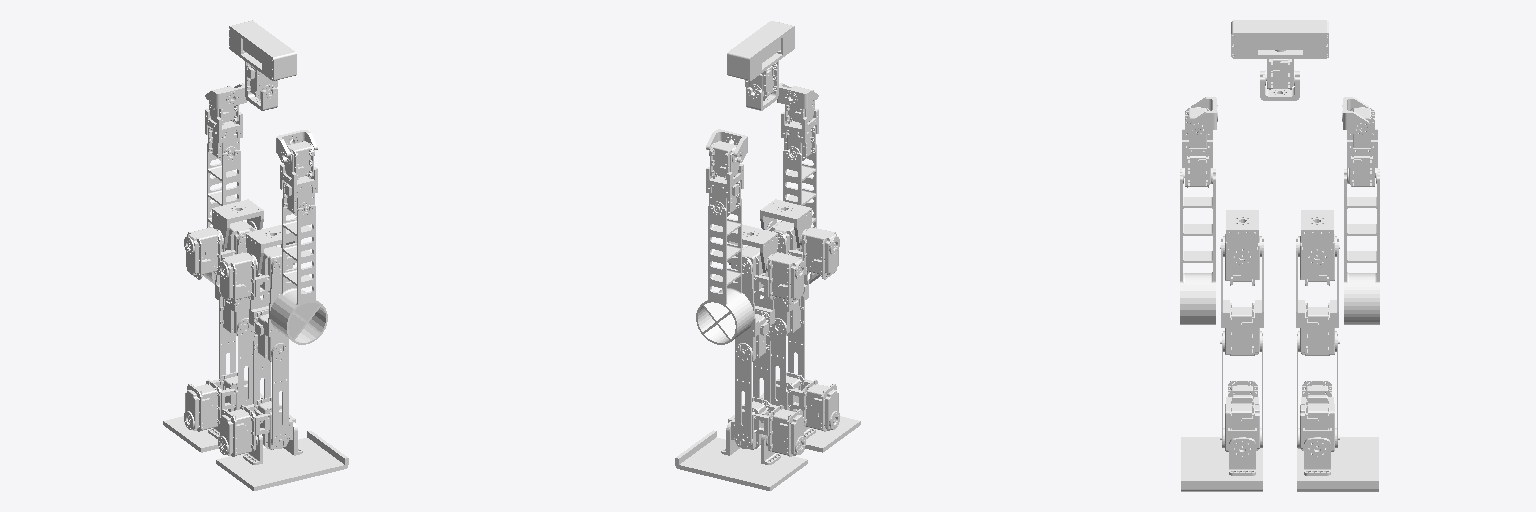
The robot description file, URDF, robot "kubot25_pkgs":
<?xml version="1.0" encoding="utf-8"?>
<robot name="kubot25_pkgs">
  <link name="base_link">
    <inertial>
      <origin xyz="0.0031365 3.8801E-05 0.00019581" rpy="0 0 0" />
      <mass value="1.90195439" />
      <inertia ixx="0.00827128" ixy="0.00000219	" ixz="-0.00051804" iyy="0.00667427" iyz="-0.00000232" izz="0.00507571" />
    </inertial>
    <visual>
      <origin xyz="0 0 0" rpy="0 0 0" />
      <geometry>
        <mesh filename="../meshes/base_link.STL" />
      </geometry>
      <material name=""><color rgba="1 1 1 1" /></material>
    </visual>
    <collision>
      <origin xyz="0 0 0" rpy="0 0 0" />
      <geometry>
        <mesh filename="../meshes/base_link_collision.STL" />
      </geometry>
    </collision>
  </link>
  <link name="Neck_yaw">
    <inertial>
      <origin xyz="1.2504E-14 2.5464E-13 0.031083" rpy="0 0 0" />
      <mass value="0.03844" />
      <inertia ixx="1.819E-05" ixy="0" ixz="0" iyy="5.34E-06" iyz="0" izz="1.717E-05" />
    </inertial>
    <visual>
      <origin xyz="0 0 0" rpy="0 0 0" />
      <geometry>
        <mesh filename="../meshes/Neck_yaw.STL" />
      </geometry>
      <material name=""><color rgba="1 1 1 1" /></material>
    </visual>
    <collision>
      <origin xyz="0 0 0" rpy="0 0 0" />
      <geometry>
        <mesh filename="../meshes/Neck_yaw_collision.STL" />
      </geometry>
    </collision>
  </link>
  <joint name="Neck_yaw_joint" type="revolute">
    <origin xyz="0.037762 5.0186E-05 0.063694" rpy="0 0 0" />
    <parent link="base_link" />
    <child link="Neck_yaw" />
    <axis xyz="0 0 1" />
    <limit lower="-3.1415" upper="3.1415" effort="100.0" velocity="10.0" />
  </joint>
  <link name="Head_pitch">
    <inertial>
      <origin xyz="0.0016148 -0.00027502 0.047365" rpy="0 0 0" />
      <mass value="0.30132044" />
      <inertia ixx="0.00048942" ixy="3.5E-07" ixz="0.00000560" iyy="0.00018664" iyz=" 0.00000064" izz="0.00035918" />
    </inertial>
    <visual>
      <origin xyz="0 0 0" rpy="0 0 0" />
      <geometry>
        <mesh filename="../meshes/Head_pitch.STL" />
      </geometry>
      <material name=""><color rgba="1 1 1 1" /></material>
    </visual>
    <collision>
      <origin xyz="0 0 0" rpy="0 0 0" />
      <geometry>
        <mesh filename="../meshes/Head_pitch_collision.STL" />
      </geometry>
    </collision>
  </link>
  <joint name="Head_pitch_joint" type="revolute">
    <origin xyz="0 0.000475 0.04825" rpy="0 0 0" />
    <parent link="Neck_yaw" />
    <child link="Head_pitch" />
    <axis xyz="0 -1 0" />
    <limit lower="-3.1415" upper="3.1415" effort="100.0" velocity="10.0" />
  </joint>
  <link name="L_Shoulder_pitch">
    <inertial>
      <origin xyz="9.0068E-10 0.031774 -0.0016022" rpy="0 0 0" />
      <mass value="0.00983000" />
      <inertia ixx="1.39E-06" ixy="0" ixz="0" iyy="4.39E-06" iyz="-1.6E-07" izz="4.52E-06" />
    </inertial>
    <visual>
      <origin xyz="0 0 0" rpy="0 0 0" />
      <geometry>
        <mesh filename="../meshes/L_Shoulder_pitch.STL" />
      </geometry>
      <material name=""><color rgba="1 1 1 1" /></material>
    </visual>
    <collision>
      <origin xyz="0 0 0" rpy="0 0 0" />
      <geometry>
        <mesh filename="../meshes/L_Shoulder_pitch_collision.STL" />
      </geometry>
    </collision>
  </link>
  <joint name="L_Shoulder_pitch_joint" type="revolute">
    <origin xyz="0.037561 0.06255 0.059244" rpy="0 0 0" />
    <parent link="base_link" />
    <child link="L_Shoulder_pitch" />
    <axis xyz="0 1 0" />
    <limit lower="-3.1415" upper="3.1415" effort="100.0" velocity="10.0" />
  </joint>
  <link name="L_Arm_roll">
    <inertial>
      <origin xyz="3.3313E-05 3.3313E-05 -0.0406" rpy="0 0 0" />
      <mass value="0.15508000" />
      <inertia ixx="0.00016511" ixy="0" ixz="0.00000042" iyy="0.00016511" iyz="-0.00000042" izz="0.00003071" />
    </inertial>
    <visual>
      <origin xyz="0 0 0" rpy="0 0 0" />
      <geometry>
        <mesh filename="../meshes/L_Arm_roll.STL" />
      </geometry>
      <material name=""><color rgba="1 1 1 1" /></material>
    </visual>
    <collision>
      <origin xyz="0 0 0" rpy="0 0 0" />
      <geometry>
        <mesh filename="../meshes/L_Arm_roll_collision.STL" />
      </geometry>
    </collision>
  </link>
  <joint name="L_Arm_roll_joint" type="revolute">
    <origin xyz="-0.000475 0.047406 -0.01045" rpy="0 0 0" />
    <parent link="L_Shoulder_pitch" />
    <child link="L_Arm_roll" />
    <axis xyz="1 0 0" />
    <limit lower="-3.1415" upper="3.1415" effort="100.0" velocity="10.0" />
  </joint>
  <link name="L_Hand_pitch">
    <inertial>
      <origin xyz="1.6081E-11 2.1883E-09 -0.13605" rpy="0 0 0" />
      <mass value="0.06716" />
      <inertia ixx="0.00027857" ixy="0" ixz="0" iyy="0.00027829" iyz="0" izz="3.728E-05" />
    </inertial>
    <visual>
      <origin xyz="0 0 0" rpy="0 0 0" />
      <geometry>
        <mesh filename="../meshes/L_Hand_pitch.STL" />
      </geometry>
      <material name=""><color rgba="1 1 1 1" /></material>
    </visual>
    <collision>
      <origin xyz="0 0 0" rpy="0 0 0" />
      <geometry>
        <mesh filename="../meshes/L_Hand_pitch_collision.STL" />
      </geometry>
    </collision>
  </link>
  <joint name="L_Hand_pitch_joint" type="revolute">
    <origin xyz="0 0 -0.0812" rpy="0 0 0" />
    <parent link="L_Arm_roll" />
    <child link="L_Hand_pitch" />
    <axis xyz="0 1 0" />
    <limit lower="-3.1415" upper="3.1415" effort="100.0" velocity="10.0" />
  </joint>
  <link name="R_Shoulder_pitch">
    <inertial>
      <origin xyz="-4.4012E-10 -0.032976 -0.00078297" rpy="0 0 0" />
      <mass value="0.00983000" />
      <inertia ixx="1.39E-06" ixy="0" ixz="0" iyy="0.00000439" iyz="1.6E-07" izz="0.00000452" />
    </inertial>
    <visual>
      <origin xyz="0 0 0" rpy="0 0 0" />
      <geometry>
        <mesh filename="../meshes/R_Shoulder_pitch.STL" />
      </geometry>
      <material name=""><color rgba="1 1 1 1" /></material>
    </visual>
    <collision>
      <origin xyz="0 0 0" rpy="0 0 0" />
      <geometry>
        <mesh filename="../meshes/R_Shoulder_pitch_collision.STL" />
      </geometry>
    </collision>
  </link>
  <joint name="R_Shoulder_pitch_joint" type="revolute">
    <origin xyz="0.037561 -0.06245 0.059244" rpy="0 0 0" />
    <parent link="base_link" />
    <child link="R_Shoulder_pitch" />
    <axis xyz="0 1 0" />
    <limit lower="-3.1415" upper="3.1415" effort="100.0" velocity="10.0" />
  </joint>
  <link name="R_Arm_roll">
    <inertial>
      <origin xyz="3.1647E-05 -3.1647E-05 -0.0406" rpy="0 0 0" />
      <mass value="0.15508000" />
      <inertia ixx="0.00016511" ixy="0" ixz="0.00000044" iyy="0.00016511" iyz="0.00000044" izz="0.00003071" />
    </inertial>
    <visual>
      <origin xyz="0 0 0" rpy="0 0 0" />
      <geometry>
        <mesh filename="../meshes/R_Arm_roll.STL" />
      </geometry>
      <material name=""><color rgba="1 1 1 1" /></material>
    </visual>
    <collision>
      <origin xyz="0 0 0" rpy="0 0 0" />
      <geometry>
        <mesh filename="../meshes/R_Arm_roll_collision.STL" />
      </geometry>
    </collision>
  </link>
  <joint name="R_Arm_roll_joint" type="revolute">
    <origin xyz="-0.000475 -0.047406 -0.01045" rpy="0 0 0" />
    <parent link="R_Shoulder_pitch" />
    <child link="R_Arm_roll" />
    <axis xyz="1 0 0" />
    <limit lower="-3.1415" upper="3.1415" effort="100.0" velocity="10.0" />
  </joint>
  <link name="R_Hand_pitch">
    <inertial>
      <origin xyz="1.6482E-11 2.1881E-09 -0.13605" rpy="0 0 0" />
      <mass value="0.06716" />
      <inertia ixx="0.00027857" ixy="0" ixz="0" iyy="0.00027829" iyz="0" izz="3.728E-05" />
    </inertial>
    <visual>
      <origin xyz="0 0 0" rpy="0 0 0" />
      <geometry>
        <mesh filename="../meshes/R_Hand_pitch.STL" />
      </geometry>
      <material name=""><color rgba="1 1 1 1" /></material>
    </visual>
    <collision>
      <origin xyz="0 0 0" rpy="0 0 0" />
      <geometry>
        <mesh filename="../meshes/R_Hand_pitch_collision.STL" />
      </geometry>
    </collision>
  </link>
  <joint name="R_Hand_pitch_joint" type="revolute">
    <origin xyz="0 0 -0.0812" rpy="0 0 0" />
    <parent link="R_Arm_roll" />
    <child link="R_Hand_pitch" />
    <axis xyz="0 1 0" />
    <limit lower="-3.1415" upper="3.1415" effort="100.0" velocity="10.0" />
  </joint>
  <link name="L_Hip_yaw">
    <inertial>
      <origin xyz="-0.0014744 6.6613E-16 -0.039988" rpy="0 0 0" />
      <mass value="0.023559" />
      <inertia ixx="8.7E-06" ixy="0" ixz="-7.7E-07" iyy="1.846E-05" iyz="0" izz="1.691E-05" />
    </inertial>
    <visual>
      <origin xyz="0 0 0" rpy="0 0 0" />
      <geometry>
        <mesh filename="../meshes/L_Hip_yaw.STL" />
      </geometry>
      <material name=""><color rgba="1 1 1 1" /></material>
    </visual>
    <collision>
      <origin xyz="0 0 0" rpy="0 0 0" />
      <geometry>
        <mesh filename="../meshes/L_Hip_yaw_collision.STL" />
      </geometry>
    </collision>
  </link>
  <joint name="L_Hip_yaw_joint" type="revolute">
    <origin xyz="0.028062 0.05005 -0.077556" rpy="0 0 0" />
    <parent link="base_link" />
    <child link="L_Hip_yaw" />
    <axis xyz="0 0 -1" />
    <limit lower="-3.1415" upper="3.1415" effort="100.0" velocity="10.0" />
  </joint>
  <link name="L_Hip_roll">
    <inertial>
      <origin xyz="0.029793 5.6241E-05 -0.015766" rpy="0 0 0" />
      <mass value="0.34600887" />
      <inertia ixx="8.102E-05" ixy="5.2E-07" ixz="3.11E-06" iyy="0.00035597" iyz="6E-07" izz="0.00032885" />
    </inertial>
    <visual>
      <origin xyz="0 0 0" rpy="0 0 0" />
      <geometry>
        <mesh filename="../meshes/L_Hip_roll.STL" />
      </geometry>
      <material name=""><color rgba="1 1 1 1" /></material>
    </visual>
    <collision>
      <origin xyz="0 0 0" rpy="0 0 0" />
      <geometry>
        <mesh filename="../meshes/L_Hip_roll_collision.STL" />
      </geometry>
    </collision>
  </link>
  <joint name="L_Hip_roll_joint" type="revolute">
    <origin xyz="-0.0595 0 -0.065879" rpy="0 0 0" />
    <parent link="L_Hip_yaw" />
    <child link="L_Hip_roll" />
    <axis xyz="1 0 0" />
    <limit lower="-3.1415" upper="3.1415" effort="100.0" velocity="10.0" />
  </joint>
  <link name="L_Hip_pitch">
    <inertial>
      <origin xyz="2.1423E-06 0.00017035 -0.097401" rpy="0 0 0" />
      <mass value="0.22104" />
      <inertia ixx="0.00032851" ixy="0" ixz="-1E-08" iyy="0.00028749" iyz="-9.2E-07" izz="6.997E-05" />
    </inertial>
    <visual>
      <origin xyz="0 0 0" rpy="0 0 0" />
      <geometry>
        <mesh filename="../meshes/L_Hip_pitch.STL" />
      </geometry>
      <material name=""><color rgba="1 1 1 1" /></material>
    </visual>
    <collision>
      <origin xyz="0 0 0" rpy="0 0 0" />
      <geometry>
        <mesh filename="../meshes/L_Hip_pitch_collision.STL" />
      </geometry>
    </collision>
  </link>
  <joint name="L_Hip_pitch_joint" type="revolute">
    <origin xyz="0.0562 0 0" rpy="0 0 0" />
    <parent link="L_Hip_roll" />
    <child link="L_Hip_pitch" />
    <axis xyz="0 1 0" />
    <limit lower="-3.1415" upper="3.1415" effort="100.0" velocity="10.0" />
  </joint>
  <link name="L_Knee_pitch">
    <inertial>
      <origin xyz="7.3413E-15 0.0001 -0.069133" rpy="0 0 0" />
      <mass value="0.04" />
      <inertia ixx="0.00010956" ixy="0" ixz="0" iyy="8.359E-05" iyz="0" izz="3.194E-05" />
    </inertial>
    <visual>
      <origin xyz="0 0 0" rpy="0 0 0" />
      <geometry>
        <mesh filename="../meshes/L_Knee_pitch.STL" />
      </geometry>
      <material name=""><color rgba="1 1 1 1" /></material>
    </visual>
    <collision>
      <origin xyz="0 0 0" rpy="0 0 0" />
      <geometry>
        <mesh filename="../meshes/L_Knee_pitch_collision.STL" />
      </geometry>
    </collision>
  </link>
  <joint name="L_Knee_pitch_joint" type="revolute">
    <origin xyz="0 0.0001 -0.14" rpy="0 0 0" />
    <parent link="L_Hip_pitch" />
    <child link="L_Knee_pitch" />
    <axis xyz="0 1 0" />
    <limit lower="-2.5" upper="2.5" effort="100.0" velocity="10.0" />
  </joint>
  <link name="L_Ankle_pitch">
    <inertial>
      <origin xyz="-0.026403 5.2916E-05 0.015768" rpy="0 0 0" />
      <mass value="0.34721765" />
      <inertia ixx="8.145E-05" ixy="5.5E-07" ixz=" -0.00000412" iyy=" 0.00035996" iyz="-6E-07" izz="0.00033254" />
    </inertial>
    <visual>
      <origin xyz="0 0 0" rpy="0 0 0" />
      <geometry>
        <mesh filename="../meshes/L_Ankle_pitch.STL" />
      </geometry>
      <material name=""><color rgba="1 1 1 1" /></material>
    </visual>
    <collision>
      <origin xyz="0 0 0" rpy="0 0 0" />
      <geometry>
        <mesh filename="../meshes/L_Ankle_pitch_collision.STL" />
      </geometry>
    </collision>
  </link>
  <joint name="L_Ankle_pitch_joint" type="revolute">
    <origin xyz="0 0 -0.142" rpy="0 0 0" />
    <parent link="L_Knee_pitch" />
    <child link="L_Ankle_pitch" />
    <axis xyz="0 1 0" />
    <limit lower="-3.1415" upper="3.1415" effort="100.0" velocity="10.0" />
  </joint>
  <link name="L_Ankle_roll">
    <inertial>
      <origin xyz="0.05891 -7.6328E-16 -0.013829" rpy="0 0 0" />
      <mass value="0.01426000" />
      <inertia ixx="0.00000467" ixy="0" ixz="0" iyy="1.626E-05" iyz="0" izz="1.473E-05" />
    </inertial>
    <visual>
      <origin xyz="0 0 0" rpy="0 0 0" />
      <geometry>
        <mesh filename="../meshes/L_Ankle_roll.STL" />
      </geometry>
      <material name=""><color rgba="1 1 1 1" /></material>
    </visual>
    <collision>
      <origin xyz="0 0 0" rpy="0 0 0" />
      <geometry>
        <mesh filename="../meshes/L_Ankle_roll_collision.STL" />
      </geometry>
    </collision>
  </link>
  <joint name="L_Ankle_roll_joint" type="revolute">
    <origin xyz="-0.0562 0 0" rpy="0 0 0" />
    <parent link="L_Ankle_pitch" />
    <child link="L_Ankle_roll" />
    <axis xyz="1 0 0" />
    <limit lower="-0.5" upper="0.5" effort="100.0" velocity="10.0" />
  </joint>
  <link name="L_Foot">
    <inertial>
      <origin xyz="0.0034202 0.027405 0.0039506" rpy="0 0 0" />
      <mass value="0.063" />
      <inertia ixx="6.406E-05" ixy="-3E-08" ixz="2.07E-06" iyy="0.00014535" iyz="0" izz="0.00020843" />
    </inertial>
    <visual>
      <origin xyz="0 0 0" rpy="0 0 0" />
      <geometry>
        <mesh filename="../meshes/L_Foot.STL" />
      </geometry>
      <material name=""><color rgba="1 1 1 1" /></material>
    </visual>
    <collision>
      <origin xyz="0 0 0" rpy="0 0 0" />
      <geometry>
        <mesh filename="../meshes/L_Foot_collision.STL" />
      </geometry>
    </collision>
  </link>
  <joint name="L_Foot_joint" type="fixed">
    <origin xyz="0.0595 -0.0001 -0.042" rpy="0 0 0" />
    <parent link="L_Ankle_roll" />
    <child link="L_Foot" />
    <axis xyz="0 0 0" />
  </joint>
  <link name="R_Hip_yaw">
    <inertial>
      <origin xyz="-0.0010223 0 -0.04111" rpy="0 0 0" />
      <mass value="0.02355878" />
      <inertia ixx="0.00000870" ixy="0" ixz="-0.00000077" iyy="1.842E-05" iyz="0" izz="1.691E-05" />
    </inertial>
    <visual>
      <origin xyz="0 0 0" rpy="0 0 0" />
      <geometry>
        <mesh filename="../meshes/R_Hip_yaw.STL" />
      </geometry>
      <material name=""><color rgba="1 1 1 1" /></material>
    </visual>
    <collision>
      <origin xyz="0 0 0" rpy="0 0 0" />
      <geometry>
        <mesh filename="../meshes/R_Hip_yaw_collision.STL" />
      </geometry>
    </collision>
  </link>
  <joint name="R_Hip_yaw_joint" type="revolute">
    <origin xyz="0.028062 -0.04995 -0.077556" rpy="0 0 0" />
    <parent link="base_link" />
    <child link="R_Hip_yaw" />
    <axis xyz="0 0 -1" />
    <limit lower="-3.1415" upper="3.1415" effort="100.0" velocity="10.0" />
  </joint>
  <link name="R_Hip_roll">
    <inertial>
      <origin xyz="0.029797 -5.2916E-05 -0.015766" rpy="0 0 0" />
      <mass value="0.34601" />
      <inertia ixx="8.102E-05" ixy="-5.5E-07" ixz="3.11E-06" iyy="0.00035603" iyz="-6E-07" izz="0.00032891" />
    </inertial>
    <visual>
      <origin xyz="0 0 0" rpy="0 0 0" />
      <geometry>
        <mesh filename="../meshes/R_Hip_roll.STL" />
      </geometry>
      <material name=""><color rgba="1 1 1 1" /></material>
    </visual>
    <collision>
      <origin xyz="0 0 0" rpy="0 0 0" />
      <geometry>
        <mesh filename="../meshes/R_Hip_roll_collision.STL" />
      </geometry>
    </collision>
  </link>
  <joint name="R_Hip_roll_joint" type="revolute">
    <origin xyz="-0.0595 0 -0.065875" rpy="0 0 0" />
    <parent link="R_Hip_yaw" />
    <child link="R_Hip_roll" />
    <axis xyz="1 0 0" />
    <limit lower="-3.1415" upper="3.1415" effort="100.0" velocity="10.0" />
  </joint>
  <link name="R_Hip_pitch">
    <inertial>
      <origin xyz="-2.1423E-06 -0.00017035 -0.097401" rpy="0 0 0" />
      <mass value="0.22104" />
      <inertia ixx="0.00032851" ixy="0" ixz="1E-08" iyy="0.00028749" iyz="9.2E-07" izz="6.997E-05" />
    </inertial>
    <visual>
      <origin xyz="0 0 0" rpy="0 0 0" />
      <geometry>
        <mesh filename="../meshes/R_Hip_pitch.STL" />
      </geometry>
      <material name=""><color rgba="1 1 1 1" /></material>
    </visual>
    <collision>
      <origin xyz="0 0 0" rpy="0 0 0" />
      <geometry>
        <mesh filename="../meshes/R_Hip_pitch_collision.STL" />
      </geometry>
    </collision>
  </link>
  <joint name="R_Hip_pitch_joint" type="revolute">
    <origin xyz="0.0562 0 0" rpy="0 0 0" />
    <parent link="R_Hip_roll" />
    <child link="R_Hip_pitch" />
    <axis xyz="0 1 0" />
    <limit lower="-3.1415" upper="3.1415" effort="100.0" velocity="10.0" />
  </joint>
  <link name="R_Knee_pitch">
    <inertial>
      <origin xyz="2.3592E-15 -0.0001 -0.069133" rpy="0 0 0" />
      <mass value="0.04" />
      <inertia ixx="0.00010956" ixy="0" ixz="0" iyy="8.359E-05" iyz="0" izz="3.194E-05" />
    </inertial>
    <visual>
      <origin xyz="0 0 0" rpy="0 0 0" />
      <geometry>
        <mesh filename="../meshes/R_Knee_pitch.STL" />
      </geometry>
      <material name=""><color rgba="1 1 1 1" /></material>
    </visual>
    <collision>
      <origin xyz="0 0 0" rpy="0 0 0" />
      <geometry>
        <mesh filename="../meshes/R_Knee_pitch_collision.STL" />
      </geometry>
    </collision>
  </link>
  <joint name="R_Knee_pitch_joint" type="revolute">
    <origin xyz="0 -0.0001 -0.14" rpy="0 0 0" />
    <parent link="R_Hip_pitch" />
    <child link="R_Knee_pitch" />
    <axis xyz="0 1 0" />
    <limit lower="-2.5" upper="2.5" effort="100.0" velocity="10.0" />
  </joint>
  <link name="R_Ankle_pitch">
    <inertial>
      <origin xyz="-0.026407 -5.6241E-05 0.015768" rpy="0 0 0" />
      <mass value="0.34721765" />
      <inertia ixx="8.145E-05" ixy="-5.1E-07" ixz="-4.11E-06" iyy="0.00035989" iyz="6E-07" izz="0.00033248" />
    </inertial>
    <visual>
      <origin xyz="0 0 0" rpy="0 0 0" />
      <geometry>
        <mesh filename="../meshes/R_Ankle_pitch.STL" />
      </geometry>
      <material name=""><color rgba="1 1 1 1" /></material>
    </visual>
    <collision>
      <origin xyz="0 0 0" rpy="0 0 0" />
      <geometry>
        <mesh filename="../meshes/R_Ankle_pitch_collision.STL" />
      </geometry>
    </collision>
  </link>
  <joint name="R_Ankle_pitch_joint" type="revolute">
    <origin xyz="0 0 -0.142" rpy="0 0 0" />
    <parent link="R_Knee_pitch" />
    <child link="R_Ankle_pitch" />
    <axis xyz="0 1 0" />
    <limit lower="-3.1415" upper="3.1415" effort="100.0" velocity="10.0" />
  </joint>
  <link name="R_Ankle_roll">
    <inertial>
      <origin xyz="0.05891 1.0426E-14 -0.013829" rpy="0 0 0" />
      <mass value=" 0.01426000" />
      <inertia ixx="4.67E-06" ixy="0" ixz="0" iyy="1.626E-05" iyz="0" izz="1.473E-05" />
    </inertial>
    <visual>
      <origin xyz="0 0 0" rpy="0 0 0" />
      <geometry>
        <mesh filename="../meshes/R_Ankle_roll.STL" />
      </geometry>
      <material name=""><color rgba="1 1 1 1" /></material>
    </visual>
    <collision>
      <origin xyz="0 0 0" rpy="0 0 0" />
      <geometry>
        <mesh filename="../meshes/R_Ankle_roll_collision.STL" />
      </geometry>
    </collision>
  </link>
  <joint name="R_Ankle_roll_joint" type="revolute">
    <origin xyz="-0.0562 0 0" rpy="0 0 0" />
    <parent link="R_Ankle_pitch" />
    <child link="R_Ankle_roll" />
    <axis xyz="1 0 0" />
    <limit lower="-0.5" upper="0.5" effort="100.0" velocity="10.0" />
  </joint>
  <link name="R_Foot">
    <inertial>
      <origin xyz="0.0034202 -0.027405 0.0039546" rpy="0 0 0" />
      <mass value="0.063" />
      <inertia ixx="6.406E-05" ixy="3E-08" ixz="2.07E-06" iyy="0.00014535" iyz="0" izz="0.00020843" />
    </inertial>
    <visual>
      <origin xyz="0 0 0" rpy="0 0 0" />
      <geometry>
        <mesh filename="../meshes/R_Foot.STL" />
      </geometry>
      <material name=""><color rgba="1 1 1 1" /></material>
    </visual>
    <collision>
      <origin xyz="0 0 0" rpy="0 0 0" />
      <geometry>
        <mesh filename="../meshes/R_Foot_collision.STL" />
      </geometry>
    </collision>
  </link>
  <joint name="R_Foot_joint" type="fixed">
    <origin xyz="0.0595 0.0001 -0.042004" rpy="0 0 0" />
    <parent link="R_Ankle_roll" />
    <child link="R_Foot" />
    <axis xyz="0 0 0" />
  </joint>
</robot>

--- Facts derived from the render (not from the file) ---
3 views of the same robot in one strip: view 1: azimuth 30°, elevation 25°; view 2: azimuth 150°, elevation 25°; view 3: azimuth 270°, elevation 25° (orthographic).
Model kubot25_pkgs with 23 links and 22 joints (20 revolute, 2 fixed), rooted at base_link, posed all joints at 0.
Visible links, largest first — view 1: R_Hand_pitch, R_Foot, Head_pitch, R_Ankle_pitch, R_Hip_roll, L_Ankle_pitch, R_Knee_pitch, R_Arm_roll, L_Hip_roll, R_Hip_pitch, L_Knee_pitch, L_Hand_pitch (+8 smaller); view 2: L_Hand_pitch, L_Foot, Head_pitch, L_Ankle_pitch, L_Hip_roll, R_Ankle_pitch, L_Knee_pitch, R_Hip_roll, L_Arm_roll, L_Hip_pitch, R_Knee_pitch, R_Hand_pitch (+8 smaller); view 3: Head_pitch, L_Hand_pitch, R_Hand_pitch, R_Foot, L_Foot, L_Hip_pitch, R_Hip_pitch, L_Ankle_pitch, R_Ankle_pitch, L_Arm_roll, R_Arm_roll, L_Hip_yaw (+8 smaller).
Link boxes in pixels (x1,y1,x2,y2): R_Hand_pitch: (270,198,327,344); R_Foot: (216,431,348,490); Head_pitch: (229,20,296,98); R_Ankle_pitch: (218,397,292,456); R_Hip_roll: (218,246,292,304); L_Ankle_pitch: (184,372,247,431); R_Knee_pitch: (253,341,288,448); R_Arm_roll: (280,141,317,215); L_Hip_roll: (184,221,256,279); R_Hip_pitch: (249,260,289,361); L_Knee_pitch: (219,322,253,409); L_Hand_pitch: (203,143,240,284); L_Hand_pitch: (696,197,753,344); L_Foot: (675,430,807,490); Head_pitch: (727,21,794,99); L_Ankle_pitch: (731,397,805,456); L_Hip_roll: (731,246,805,304); R_Ankle_pitch: (776,372,839,431); L_Knee_pitch: (735,341,770,448); R_Hip_roll: (767,221,839,279); L_Arm_roll: (706,141,743,216); L_Hip_pitch: (734,260,774,361); R_Knee_pitch: (770,321,804,409); R_Hand_pitch: (783,142,820,283); Head_pitch: (1231,20,1328,89); L_Hand_pitch: (1344,169,1379,324); R_Hand_pitch: (1180,169,1215,324); R_Foot: (1181,437,1262,491); L_Foot: (1297,437,1378,491); L_Hip_pitch: (1296,237,1339,355); R_Hip_pitch: (1220,237,1263,355); L_Ankle_pitch: (1298,381,1339,451); R_Ankle_pitch: (1220,381,1261,451); L_Arm_roll: (1347,107,1379,186); R_Arm_roll: (1180,107,1212,187); L_Hip_yaw: (1301,210,1333,267).
Bounding box of the posed robot: 0.1651 × 0.2684 × 0.656 m (x, y, z).
22 mesh visuals loaded from 23 distinct referenced files (22 binary STL); not drawn: 1 (reference not matched to a file when rendering).
